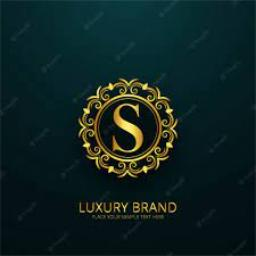s: (108, 99, 146, 159)
